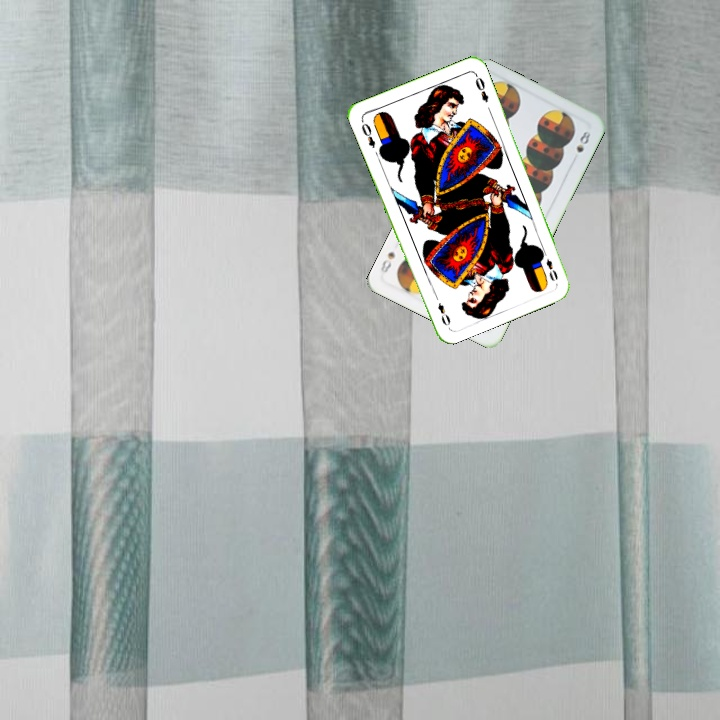EO: (538, 246, 561, 284), (357, 116, 378, 151)
